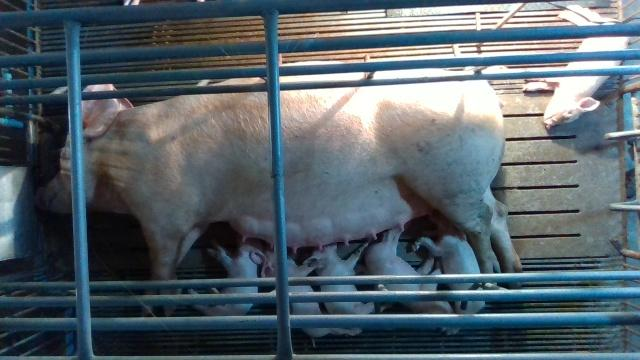piglet: (524, 4, 631, 128), (263, 247, 363, 337), (411, 221, 485, 334), (365, 226, 453, 314), (302, 244, 390, 315), (189, 232, 263, 315)
sow-sleep-lactate: (36, 61, 524, 317)
